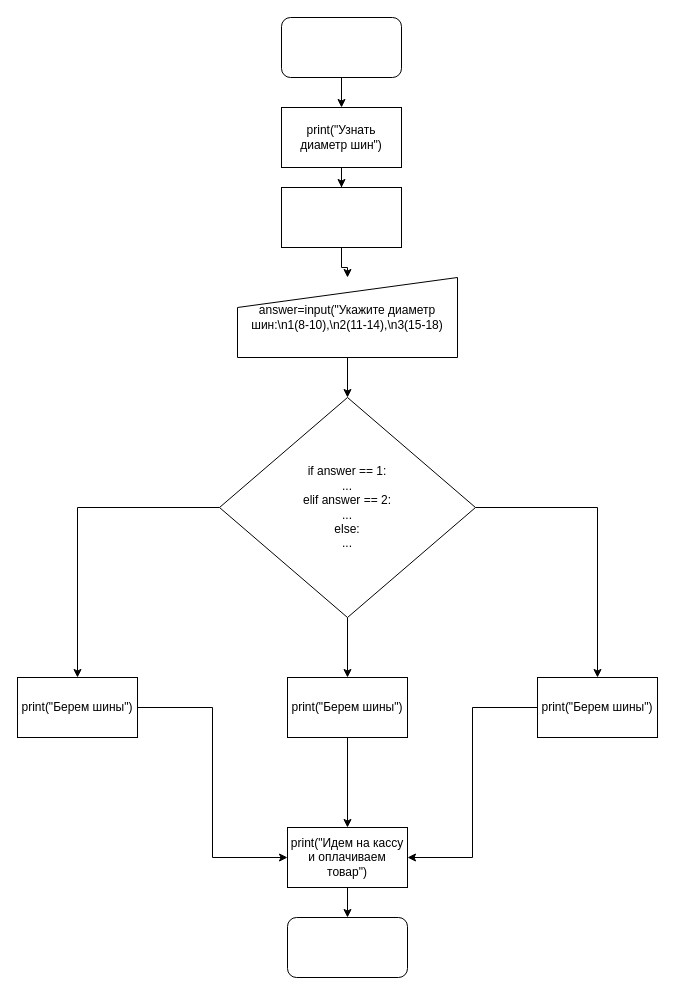
Some shapes in this 675 by 995 pixel diagram are drawn without their labels. The centre of each missing label's shape, as x and y in pixels:
print("Прийти в магазин"): point (341, 217)
start: point (341, 47)
stop: point (347, 947)
